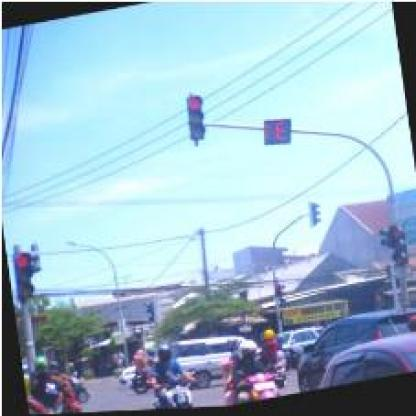red: (9, 249, 35, 301), (385, 226, 410, 272), (184, 93, 206, 142)
